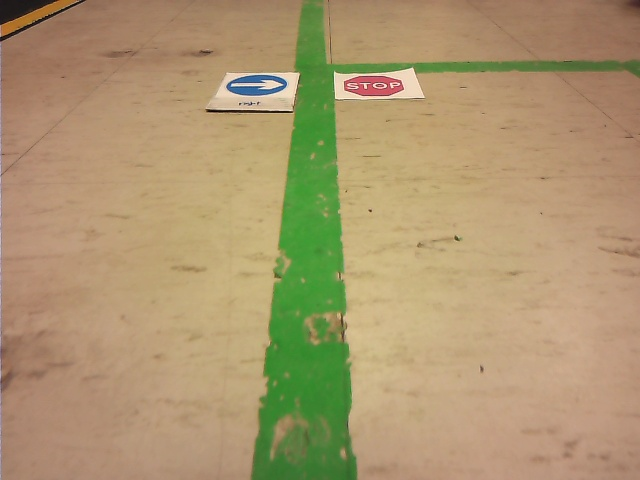STOP: (345, 76, 403, 95)
TURN RIGHT: (225, 74, 287, 95)
